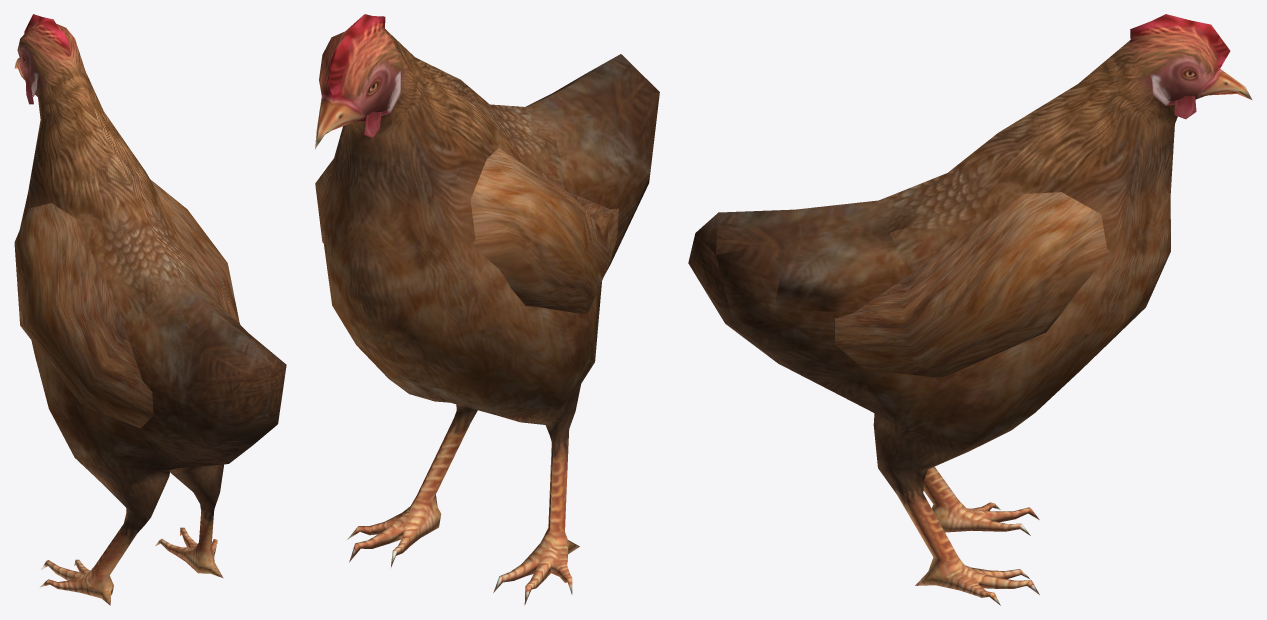
Rendered from muji_04.FBX.
The picture shows the model from 3 angles, left to right: view 1: azimuth 30°, elevation 25°; view 2: azimuth 150°, elevation 25°; view 3: azimuth 270°, elevation 25°; orthographic projection. The views are drawn at different scales.
Visible parts, largest first — view 1: muji_04; view 2: muji_04; view 3: muji_04.
Boxes of the visible parts, bbox=[...] form: muji_04: bbox=[14, 14, 286, 605]; muji_04: bbox=[315, 14, 659, 605]; muji_04: bbox=[688, 14, 1252, 605].
Size of the model in its own units: 16.23 by 40.27 by 37.85.
